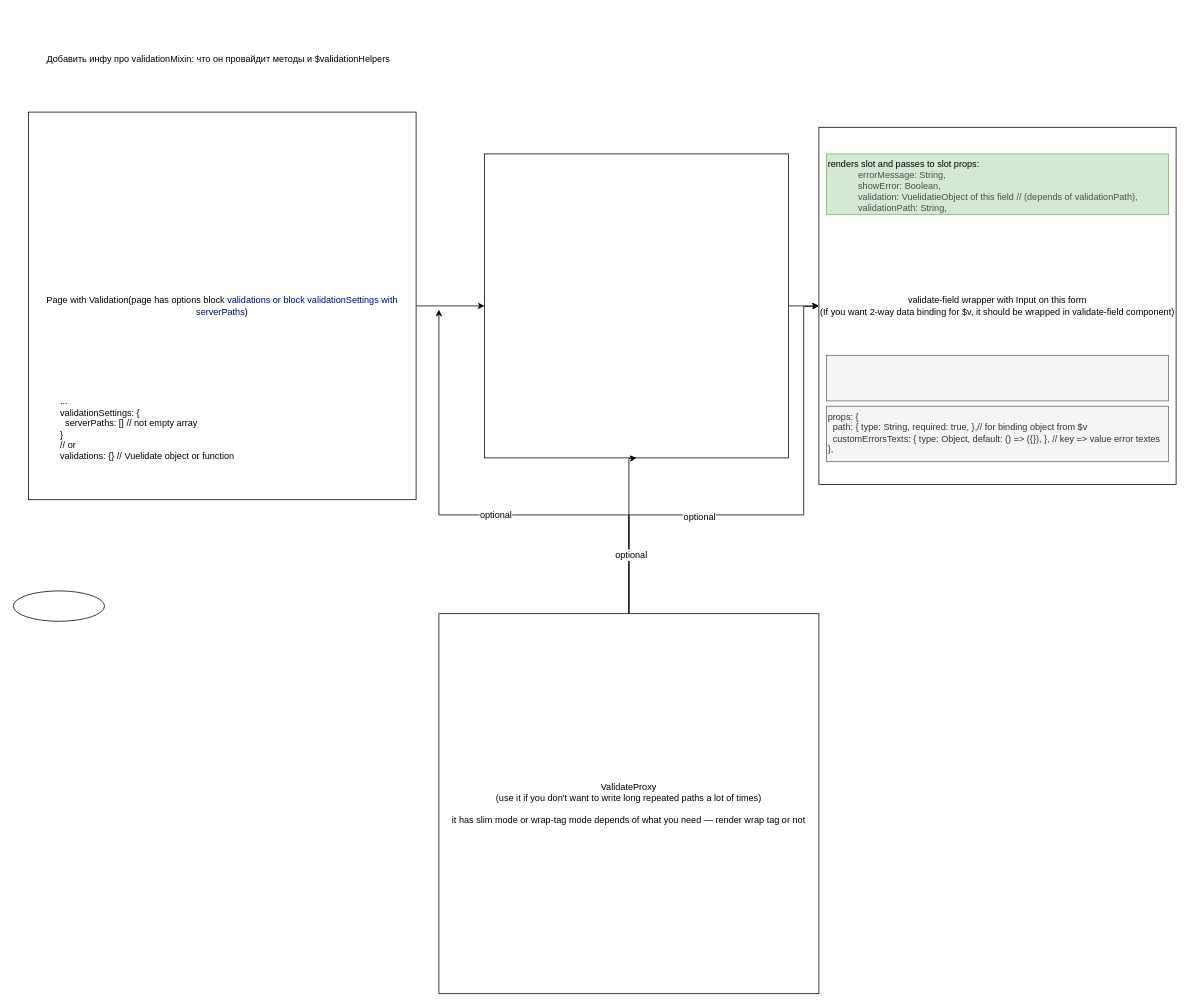
This 1189x1007 diagram has some shape labels left out. Each missing label, with the centre of its shape:
Form on this page: the point at 636,305
input or something as a slot: the point at 997,378
